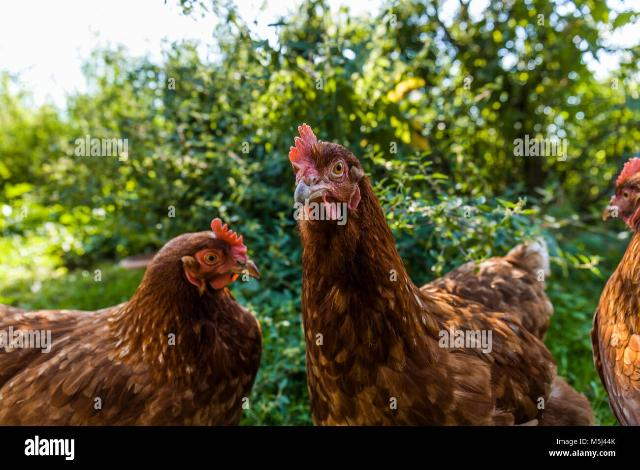Chicken: (288, 123, 600, 428), (0, 217, 260, 429), (590, 157, 640, 426)
